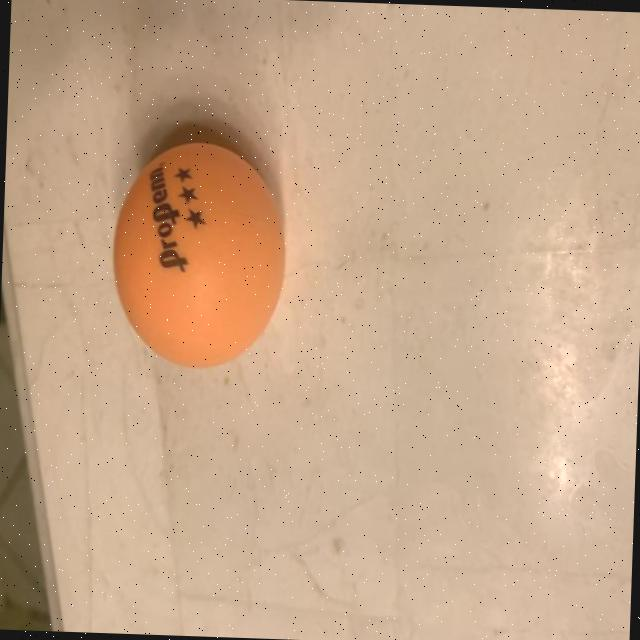ping-pong-ball: (98, 125, 296, 374)
